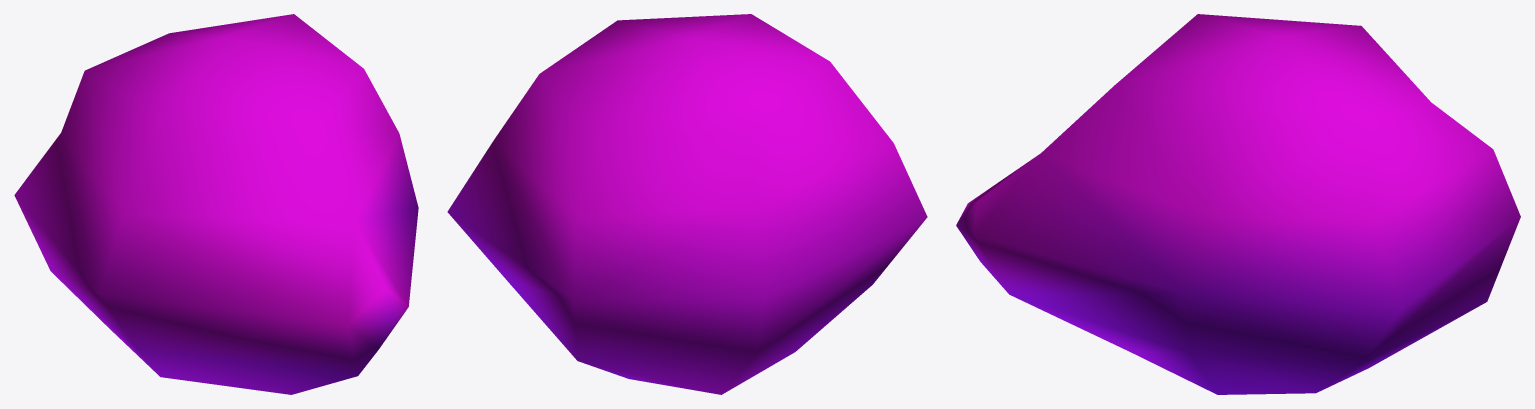
File: SM_Stone_02.FBX
3 views of the same model, side by side, from view 1: azimuth 30°, elevation 25°; view 2: azimuth 150°, elevation 25°; view 3: azimuth 270°, elevation 25° (orthographic). The views are drawn at different scales.
Parts seen in each view (by area): view 1: SM_Stone_02; view 2: SM_Stone_02; view 3: SM_Stone_02.
Part boxes in pixels (x1,y1,x2,y2): SM_Stone_02: (14,14,418,394); SM_Stone_02: (447,14,927,394); SM_Stone_02: (956,14,1520,394).
Size of the model in its own units: 93.96 by 122 by 76.72.
